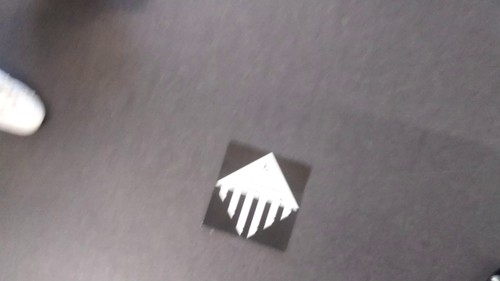misgoods: (212, 151, 304, 244)
